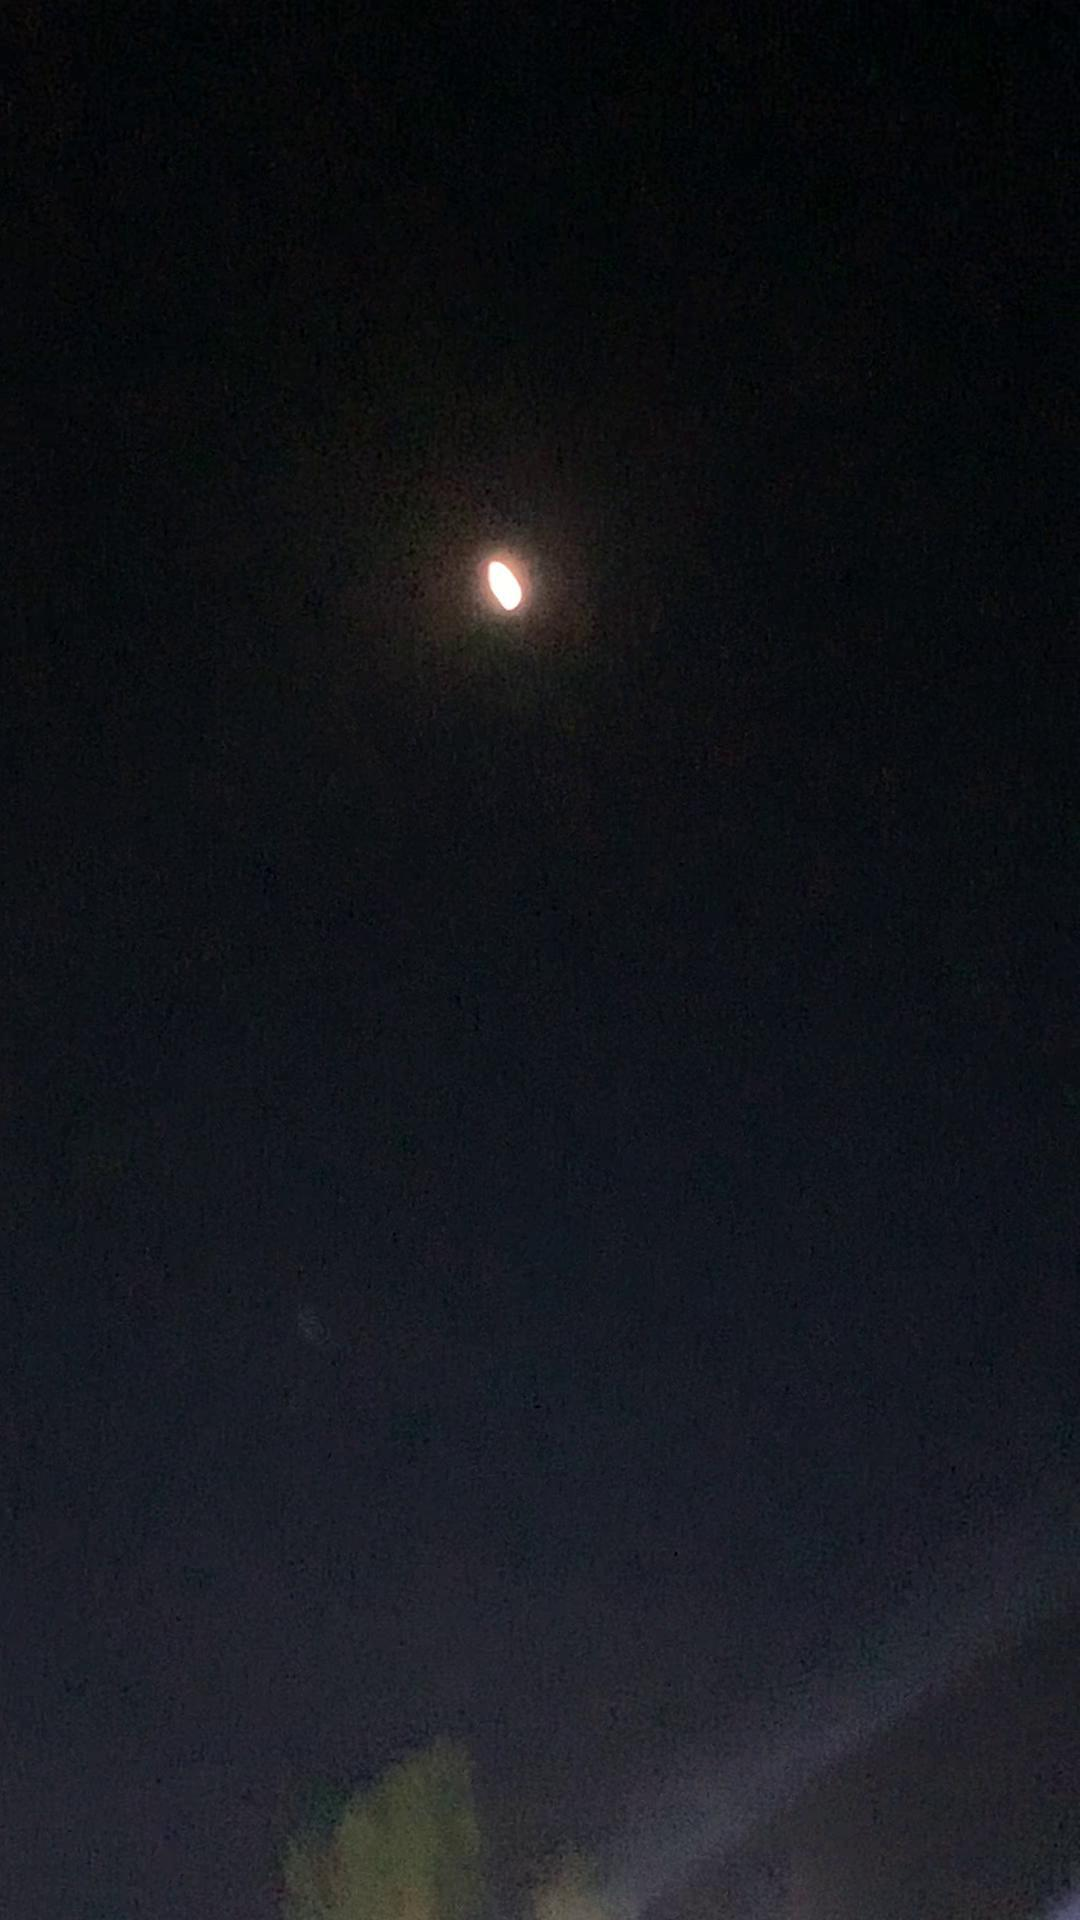moon: (465, 547, 542, 626)
